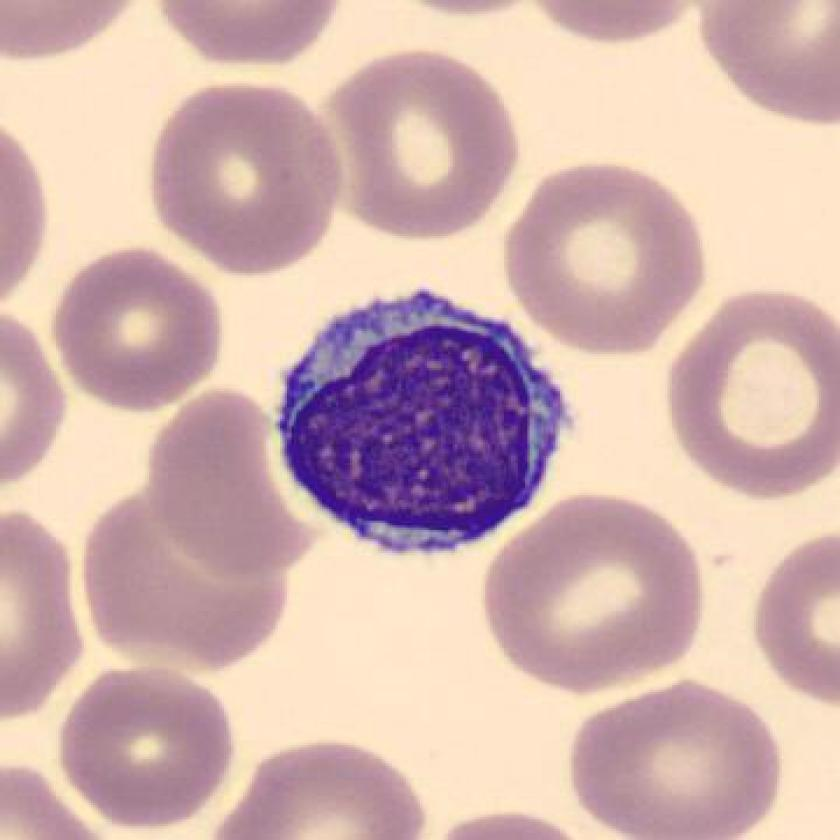lymphocyte: (253, 274, 584, 573)
